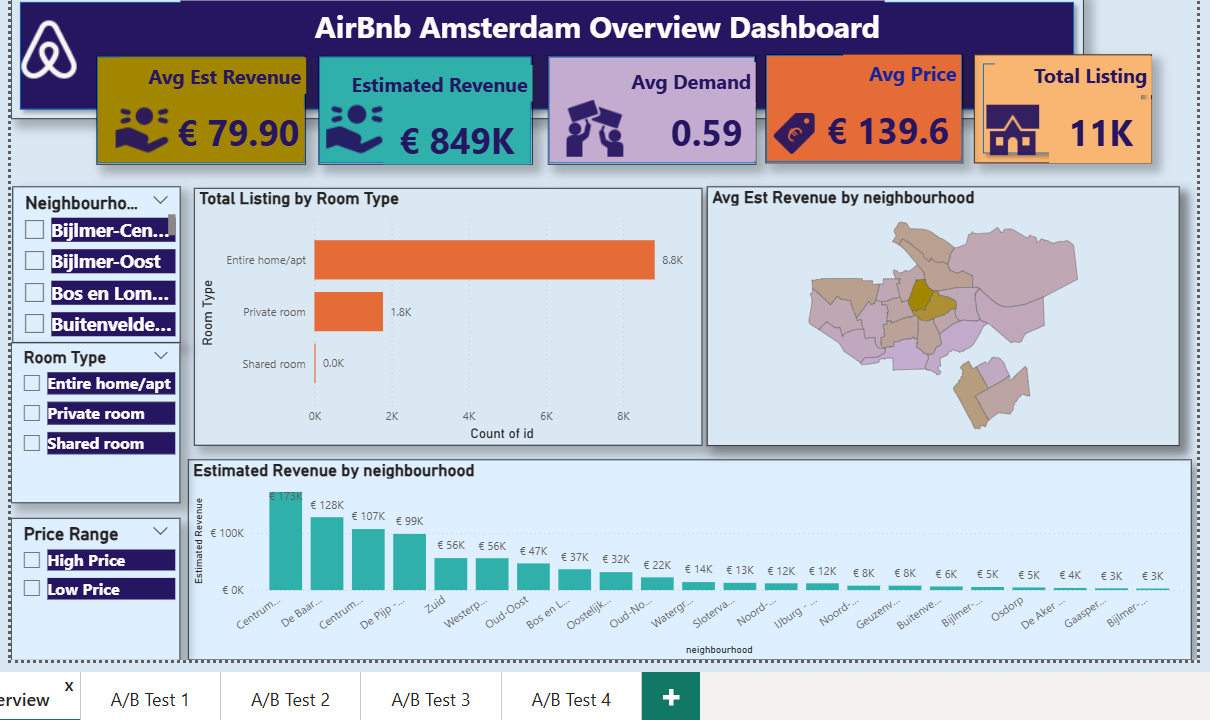

The dashboard page shown, as its layout file describes it:
{"tool":"powerbi","page":{"name":"Overview","canvas":[1280,720],"ordinal":0},"visuals":[{"type":"shape","box":[0,0,1157.7,136],"z":0},{"type":"card","fields":{"Values":["cleaned_listing.Total Listing"]},"box":[1121.1,114.8,110.6,68.3],"z":0,"group":"g1"},{"type":"card","fields":{"Values":["cleaned_listing.Avg Est Revenue"]},"box":[174.4,125.3,143.2,50.4],"z":0,"group":"g5"},{"type":"card","fields":{"Values":["cleaned_listing.Estimted revenue"]},"box":[401.5,132.2,157.8,53.7],"z":0,"group":"g4"},{"type":"shape","box":[1039.7,66.7,192,117.2],"z":1000},{"type":"textbox","box":[1062.5,68.3,169.2,42.3],"z":1000,"group":"g1"},{"type":"textbox","box":[117.5,70,201.8,39.1],"z":1000,"group":"g5"},{"type":"textbox","box":[361.1,78.1,201.8,39.1],"z":1000,"group":"g4"},{"type":"image","box":[328.7,108.1,86.2,79.7],"z":2000,"group":"g4"},{"type":"image","box":[1021.8,109.9,118.8,74.8],"z":2000,"group":"g1"},{"type":"image","box":[104.2,110.7,78.1,74.8],"z":2000,"group":"g5"},{"type":"shape","box":[196.9,209.9,548.3,278.2],"z":2000},{"type":"shape","box":[183,503.6,1096.2,217],"z":3000},{"type":"shape","box":[92.7,68.3,226.2,117.2],"z":4000},{"type":"shape","box":[331.9,68.3,231.1,117.2],"z":5000},{"type":"shape","box":[579.3,68.3,224.5,117.2],"z":6000},{"type":"shape","box":[815.2,66.7,213.2,117.2],"z":7000},{"type":"group","id":"g1","title":"Group 1","box":[1021.8,68.3,209.9,117.2],"z":8000},{"type":"group","id":"g2","title":"Group 2","box":[816.8,66.7,209.9,118.8],"z":9000},{"type":"card","fields":{"Values":["cleaned_listing.Avg Price"]},"box":[867.2,118.8,159.5,58.6],"z":9000,"group":"g2"},{"type":"group","id":"g3","title":"Group 3","box":[579.3,74.8,224.5,107.4],"z":10000},{"type":"group","id":"g4","title":"Group 4","box":[328.7,78.1,234.3,109],"z":11000},{"type":"image","box":[816.8,118.8,58.6,66.7],"z":11000,"group":"g2"},{"type":"image","box":[0,0,81.4,122],"z":12000},{"type":"textbox","box":[899.8,66.7,126.9,52.1],"z":12000,"group":"g2"},{"type":"group","id":"g5","title":"Group 5","box":[104.2,70,215,115.6],"z":13000},{"type":"card","fields":{"Values":["cleaned_listing.Avg Demand"]},"box":[698.1,118.7,105.8,63.5],"z":13000,"group":"g3"},{"type":"textbox","box":[182.2,8.1,759.9,53.7],"z":14000},{"type":"image","box":[579.3,110.6,100.9,71.6],"z":14000,"group":"g3"},{"type":"textbox","box":[641.1,74.8,162.7,48.8],"z":15000,"group":"g3"},{"type":"shape","box":[751.7,209.9,509.3,278.2],"z":15000},{"type":"shape","box":[0,398.6,182.2,89.5],"z":16000},{"type":"shape","box":[1.6,209.9,180.6,87.9],"z":17000},{"type":"shape","box":[0,611.8,182.2,109],"z":18000},{"type":"barChart","title":"Total Listing by Room Type","fields":{"Category":["cleaned_listing.room_type"],"Y":["CountNonNull(cleaned_listing.id)"]},"box":[196.9,209.9,548.3,278.2],"z":19000},{"type":"clusteredColumnChart","fields":{"Category":["cleaned_listing.neighbourhood"],"Y":["cleaned_listing.Estimated Revenue"]},"box":[191.1,503.6,1083.3,217],"z":20000},{"type":"shapeMap","fields":{"Category":["cleaned_listing.neighbourhood"],"Value":["cleaned_listing.Avg Est Revenue"]},"box":[751.3,208.9,510.1,280.1],"z":21000},{"type":"slicer","fields":{"Values":["cleaned_listing.neighbourhood"]},"box":[1.6,208.9,181.4,168.4],"z":22000},{"type":"slicer","fields":{"Values":["cleaned_listing.room_type"]},"box":[0,377.3,183,173.3],"z":23000},{"type":"slicer","fields":{"Values":["cleaned_listing.Price Range"]},"box":[0,566.7,183,153.8],"z":24000}]}

Visuals, with their boxes in screenshot pixels (x1, y1, x2, y2):
shape: 6:0:1086:114
card - cleaned_listing.Total Listing: 1051:94:1155:158
card - cleaned_listing.Avg Est Revenue: 169:104:302:151
card - cleaned_listing.Estimted revenue: 381:111:528:161
shape: 976:50:1155:159
textbox: 997:51:1155:91
textbox: 116:53:304:89
textbox: 343:60:531:97
image: 313:88:393:162
image: 959:90:1070:160
image: 103:91:176:160
shape: 190:183:701:442
shape: 177:457:1199:659
shape: 93:51:304:160
shape: 316:51:531:160
shape: 546:51:756:160
shape: 766:50:965:159
"Group 1" group: 959:51:1155:160
"Group 2" group: 768:50:963:160
card - cleaned_listing.Avg Price: 815:98:963:153
"Group 3" group: 546:57:756:157
"Group 4" group: 313:60:531:162
image: 768:98:822:160
image: 6:0:82:101
textbox: 845:50:963:98
"Group 5" group: 103:53:304:160
card - cleaned_listing.Avg Demand: 657:98:756:157
textbox: 176:0:885:45
image: 546:91:640:157
textbox: 604:57:756:103
shape: 707:183:1182:442
shape: 6:359:176:442
shape: 8:183:176:265
shape: 6:558:176:659
"Total Listing by Room Type" barChart: 190:183:701:442
clusteredColumnChart - cleaned_listing.neighbourhood x cleaned_listing.Estimated Revenue: 184:457:1194:659
shapeMap - cleaned_listing.neighbourhood x cleaned_listing.Avg Est Revenue: 707:182:1182:443
slicer - cleaned_listing.neighbourhood: 8:182:177:339
slicer - cleaned_listing.room_type: 6:339:177:501
slicer - cleaned_listing.Price Range: 6:516:177:659
